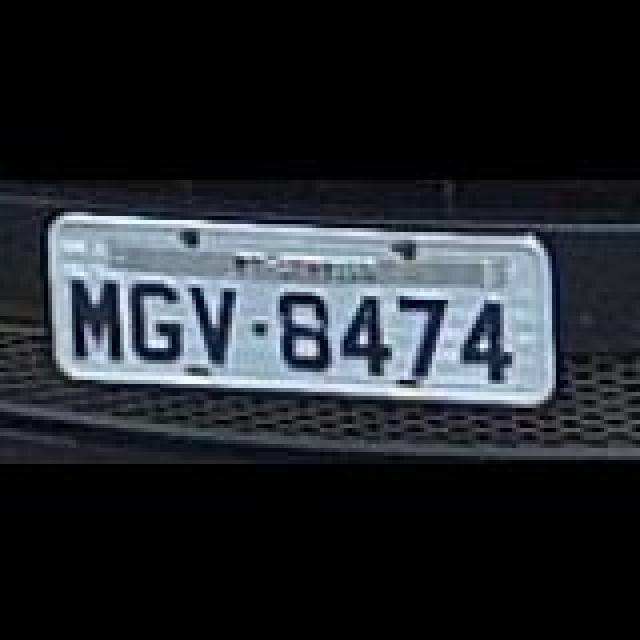4: (456, 294, 520, 378), (336, 292, 400, 372)
7: (390, 290, 458, 374)
8: (274, 288, 342, 368)
G: (122, 278, 190, 362)
M: (64, 274, 128, 358)
V: (184, 280, 248, 360)
